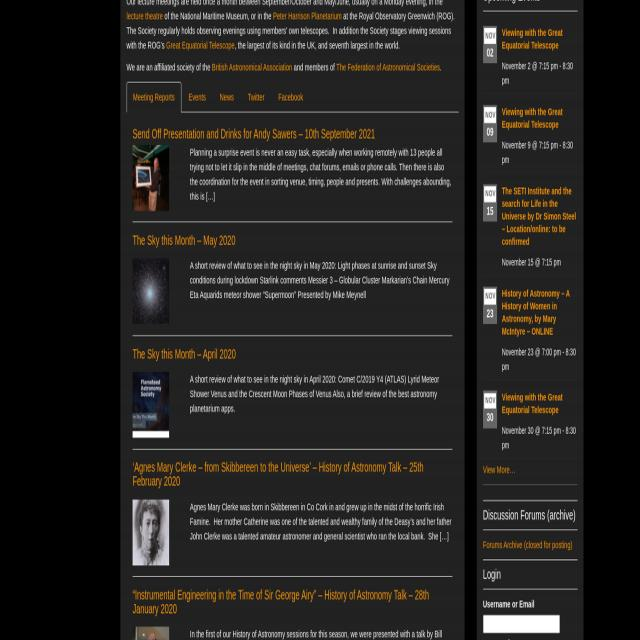button: (133, 145, 169, 211), (133, 258, 169, 324), (133, 372, 169, 438), (133, 500, 169, 565), (126, 82, 182, 112), (272, 82, 310, 112), (182, 82, 212, 112), (241, 82, 271, 112), (213, 82, 240, 112), (132, 626, 170, 640)
field: (484, 616, 560, 632)
